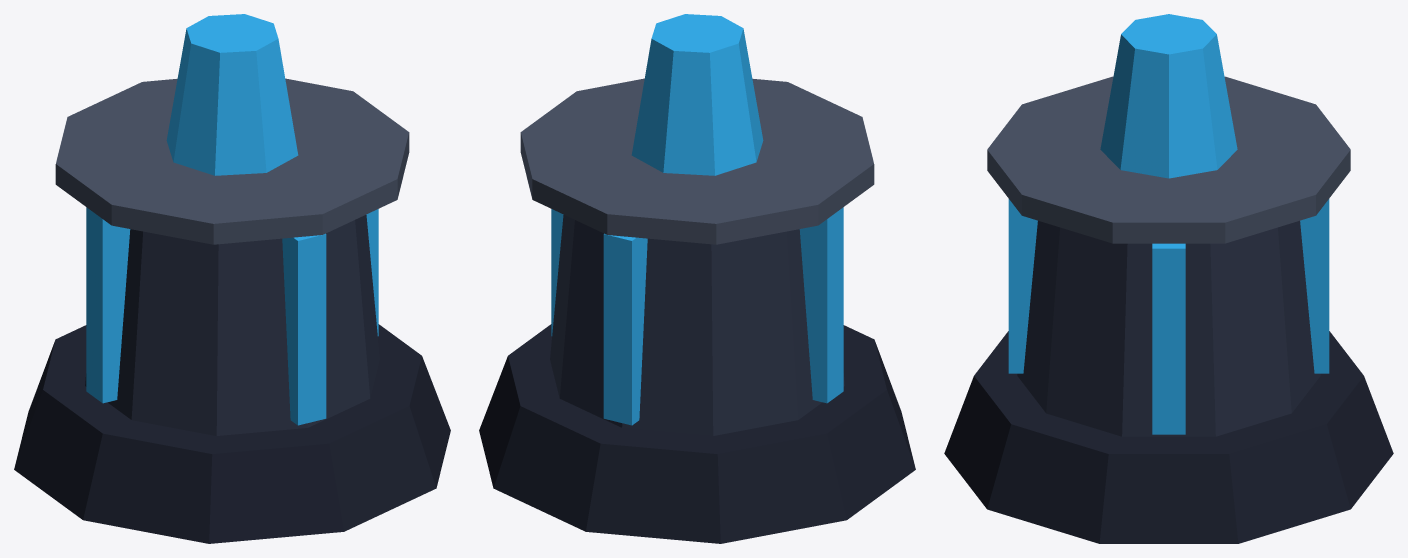
The model's file is team_tower_blue.obj.
The picture shows the model from 3 angles, left to right: view 1: azimuth 30°, elevation 25°; view 2: azimuth 150°, elevation 25°; view 3: azimuth 270°, elevation 25°; orthographic projection.
Parts seen in each view (by area): view 1: team_tower_blue; view 2: team_tower_blue; view 3: team_tower_blue.
Part boxes in pixels (x1,y1,x2,y2): team_tower_blue: [14, 14, 450, 543]; team_tower_blue: [479, 14, 915, 543]; team_tower_blue: [944, 14, 1393, 543].
Size of the model in its own units: 12.93 by 14 by 13.6.
